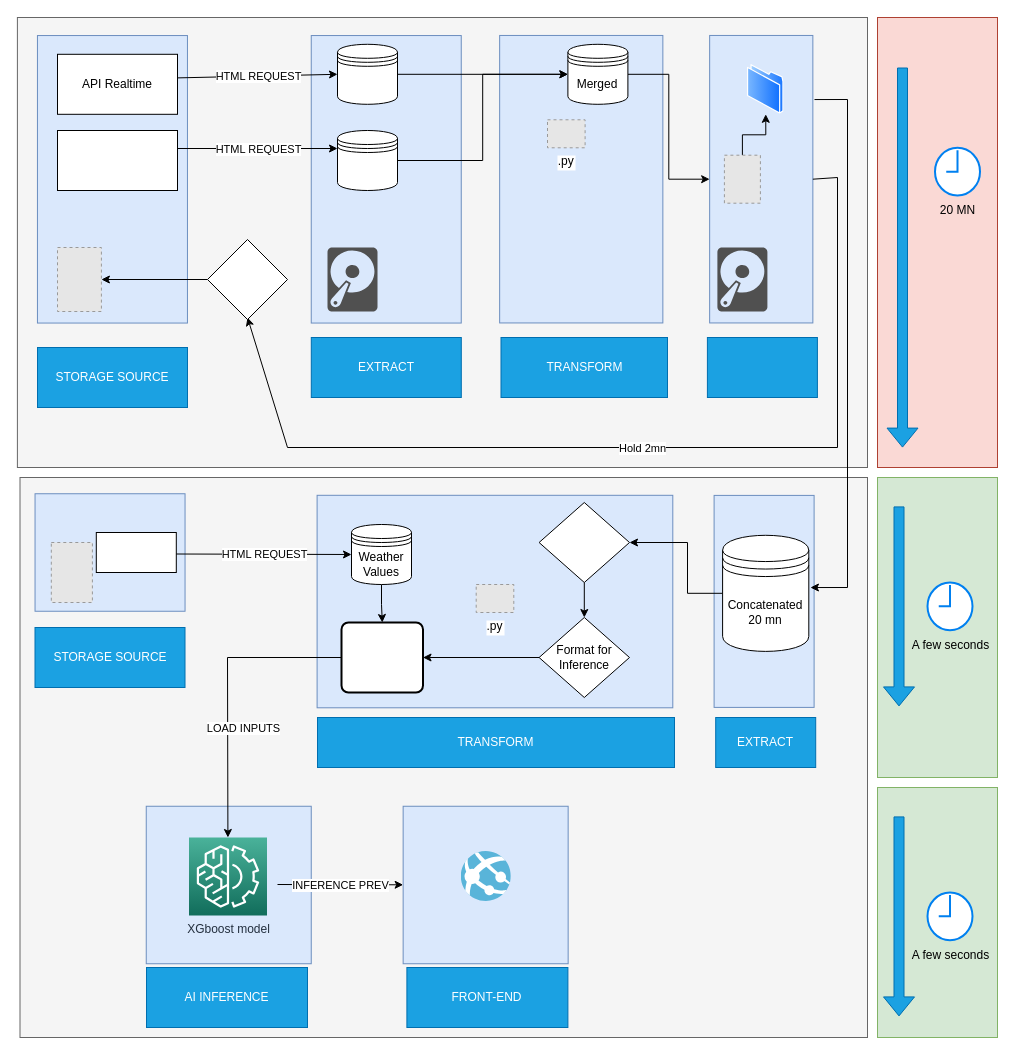
Image size: 1018x1055. Some labels were removed from this diagram. Grey dashed boxes stand in for pictures. The centre of each missing label's shape, as x and y in pixels:
API SMHI: the point at 135,552
API Static: the point at 117,160
Build aggregates: the point at 584,542
LOAD: the point at 761,367
Merge traffic and weather data: the point at 382,657
Next call: the point at 247,279
RT raw: the point at 367,73
Static raw: the point at 367,160
Web app: the point at 486,876
